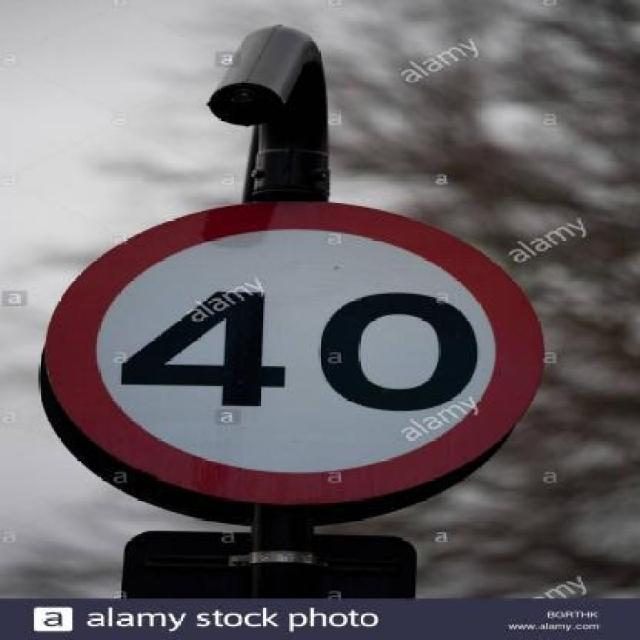forb_speed_over_40: (52, 202, 543, 505)
